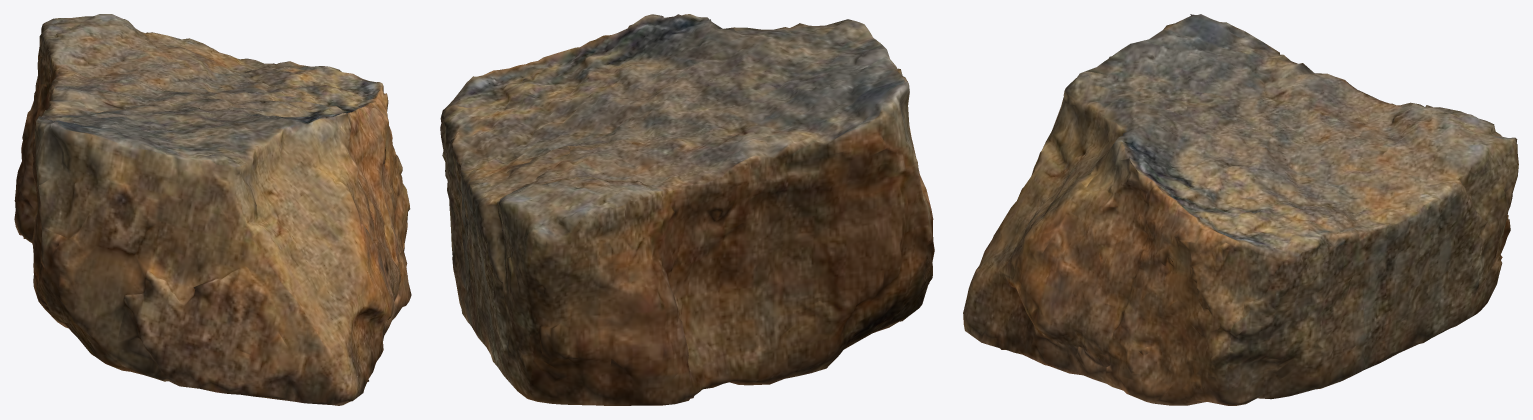
The model's file is natural-boulder-lod0.glb.
3 views of the same model, side by side, from view 1: azimuth 30°, elevation 25°; view 2: azimuth 150°, elevation 25°; view 3: azimuth 270°, elevation 25° (orthographic). The views are drawn at different scales.
Parts seen in each view (by area): view 1: boulder_03_LOD0; view 2: boulder_03_LOD0; view 3: boulder_03_LOD0.
Boxes of the visible parts, box(x1,y1,x2,y2) form: boulder_03_LOD0: box(14, 14, 411, 405); boulder_03_LOD0: box(440, 14, 934, 405); boulder_03_LOD0: box(963, 14, 1518, 405).
Bounding box in the file's own units: 2.4 × 1.47 × 3.06.
1 material, 1 textured.
